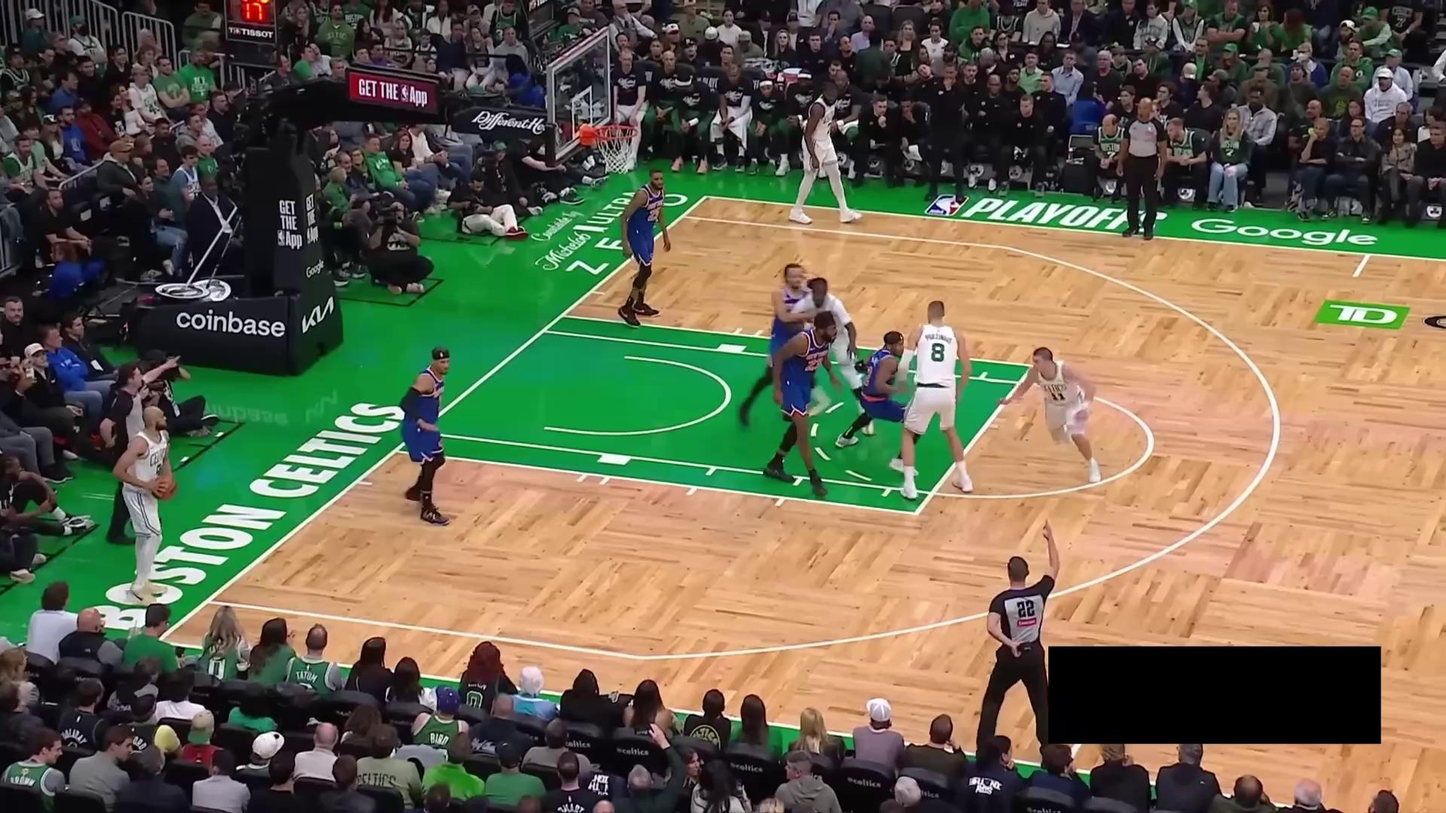ball: (148, 472, 178, 499)
number: (929, 341, 946, 364), (804, 356, 825, 373), (863, 364, 874, 387), (648, 206, 662, 222), (1051, 391, 1066, 403)
player: (893, 298, 975, 500), (785, 271, 880, 437), (758, 310, 843, 495), (829, 327, 931, 480), (735, 262, 823, 433), (1001, 345, 1106, 485), (393, 338, 461, 525), (786, 80, 869, 227), (612, 165, 676, 329)
player-in-possession: (110, 401, 182, 607)
referee: (976, 518, 1063, 761), (96, 356, 183, 546), (1112, 93, 1175, 244)
rim: (595, 124, 641, 141)
